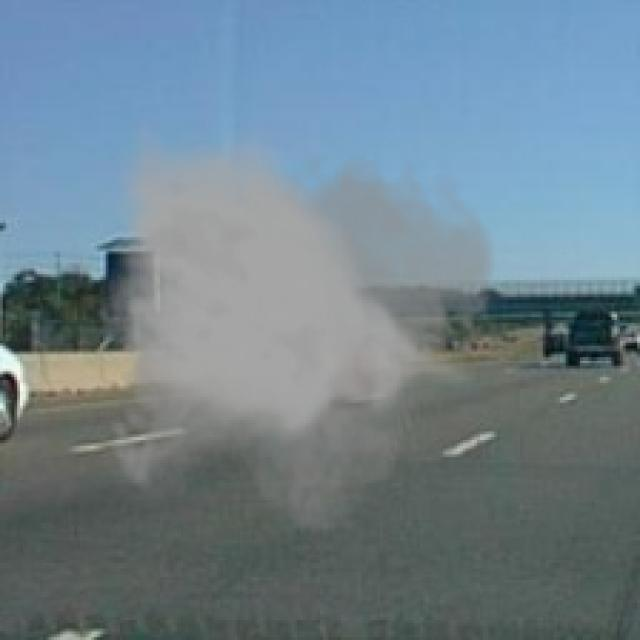smoke: (97, 123, 500, 534)
